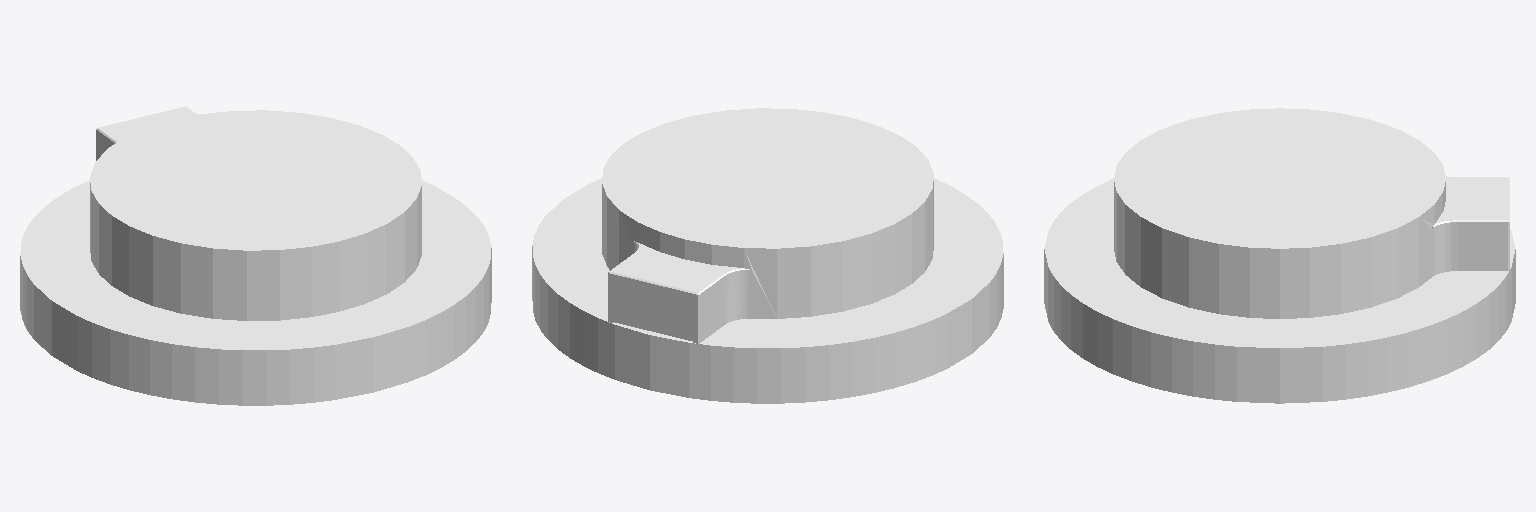
robot.urdf — aubo_i5:
<?xml version="1.0" ?>
<robot name="aubo_i5">
    <link name="base_link">
        
<inertial>
            <origin xyz="-1.4795E-13 0.0015384 0.020951" rpy="0 0 0" />
            <mass value="0.83419" />
            <inertia ixx="0.0014414" ixy="7.8809E-15" ixz="8.5328E-16" iyy="0.0013542" iyz="-1.4364E-05" izz="0.0024659" />
        </inertial>

        <visual>
            <origin xyz="0 0 0" rpy="0 0 0" />
            <geometry>
                <mesh filename="package://aubo_description/meshes/aubo_i5/visual/base_link.DAE" />
            </geometry>
            <material name="">
                <color rgba="1 1 1 1" />
            </material>
        </visual>
        <collision>
            <origin xyz="0 0 0" rpy="0 0 0" />
            <geometry>
                <mesh filename="package://aubo_description/meshes/aubo_i5/collision/base_link.STL" />
            </geometry>
        </collision>
    </link>
    <link name="shoulder_Link">
        
<inertial>
            <origin xyz="3.2508868974735E-07 0.00534955349296065 -0.00883689325611056" rpy="0 0 0" />
            <mass value="1.57658348693929" />
            <inertia ixx="0.0040640448663128" ixy="0" ixz="0" iyy="0.00392863238466817" iyz="-0.000160151642851425" izz="0.0030869857349184" />
        </inertial>

        <visual>
            <origin xyz="0 0 0" rpy="0 0 0" />
            <geometry>
                <mesh filename="package://aubo_description/meshes/aubo_i5/visual/shoulder_Link.DAE" />
            </geometry>
            <material name="">
                <color rgba="1 1 1 1" />
            </material>
        </visual>
        <collision>
            <origin xyz="0 0 0" rpy="0 0 0" />
            <geometry>
                <mesh filename="package://aubo_description/meshes/aubo_i5/collision/shoulder_Link.STL" />
            </geometry>
        </collision>
    </link>
    <joint name="shoulder_joint" type="revolute">
        <origin xyz="0 0 0.122" rpy="0 0 3.1416" />
        <parent link="base_link" />
        <child link="shoulder_Link" />
        <axis xyz="0 0 1" />
        <limit lower="-3.05" upper="3.05" effort="0" velocity="0" />
    </joint>
    <link name="upperArm_Link">
        
<inertial>
            <origin xyz="0.203996646979614 2.01304585036544E-10 0.0127641545395984" rpy="0 0 0" />
            <mass value="4.04175782265494" />
            <inertia ixx="0.00965399211106204" ixy="0" ixz="0" iyy="0.144993869035655" iyz="0" izz="0.142607184038966" />
        </inertial>

        <visual>
            <origin xyz="0 0 0" rpy="0 0 0" />
            <geometry>
                <mesh filename="package://aubo_description/meshes/aubo_i5/visual/upperArm_Link.DAE" />
            </geometry>
            <material name="">
                <color rgba="1 1 1 1" />
            </material>
        </visual>
        <collision>
            <origin xyz="0 0 0" rpy="0 0 0" />
            <geometry>
                <mesh filename="package://aubo_description/meshes/aubo_i5/collision/upperArm_Link.STL" />
            </geometry>
        </collision>
    </link>
    <joint name="upperArm_joint" type="revolute">
        <origin xyz="0 0.1215 0" rpy="-1.5708 -1.5708 0" />
        <parent link="shoulder_Link" />
        <child link="upperArm_Link" />
        <axis xyz="0 0 1" />
        <limit lower="-3.05" upper="3.05" effort="0" velocity="0" />
    </joint>
    <link name="foreArm_Link">
        
<inertial>
            <origin xyz="0.188922115560337 6.78882434739072E-07 0.0981026740461557" rpy="0 0 0" />
            <mass value="2.27145669098343" />
            <inertia ixx="0.00214322284946289" ixy="0" ixz="-0.00073120631553383" iyy="0.0443926090878205" iyz="0" izz="0.0441273797128365" />
        </inertial>

        <visual>
            <origin xyz="0 0 0" rpy="0 0 0" />
            <geometry>
                <mesh filename="package://aubo_description/meshes/aubo_i5/visual/foreArm_Link.DAE" />
            </geometry>
            <material name="">
                <color rgba="1 1 1 1" />
            </material>
        </visual>
        <collision>
            <origin xyz="0 0 0" rpy="0 0 0" />
            <geometry>
                <mesh filename="package://aubo_description/meshes/aubo_i5/collision/foreArm_Link.STL" />
            </geometry>
        </collision>
    </link>
    <joint name="foreArm_joint" type="revolute">
        <origin xyz="0.408 0 0" rpy="-3.1416 -5.1632E-18 -5.459E-16" />
        <parent link="upperArm_Link" />
        <child link="foreArm_Link" />
        <axis xyz="0 0 1" />
        <limit lower="-3.05" upper="3.05" effort="0" velocity="0" />
    </joint>
    <link name="wrist1_Link">
        
<inertial>
            <origin xyz="7.54205137428592E-07 0.0062481254331257 -0.00392367464072373" rpy="0 0 0" />
            <mass value="0.500477539188764" />
            <inertia ixx="0.00071194605962081" ixy="0" ixz="0" iyy="0.00040588242872958" iyz="-2.30808694377512E-05" izz="0.000685574004861334" />
        </inertial>

        <visual>
            <origin xyz="0 0 0" rpy="0 0 0" />
            <geometry>
                <mesh filename="package://aubo_description/meshes/aubo_i5/visual/wrist1_Link.DAE" />
            </geometry>
            <material name="">
                <color rgba="1 1 1 1" />
            </material>
        </visual>
        <collision>
            <origin xyz="0 0 0" rpy="0 0 0" />
            <geometry>
                <mesh filename="package://aubo_description/meshes/aubo_i5/collision/wrist1_Link.STL" />
            </geometry>
        </collision>
    </link>
    <joint name="wrist1_joint" type="revolute">
        <origin xyz="0.376 0 0" rpy="3.1416 -1.8323E-15 1.5708" />
        <parent link="foreArm_Link" />
        <child link="wrist1_Link" />
        <axis xyz="0 0 1" />
        <limit lower="-3.05" upper="3.05" effort="0" velocity="0" />
    </joint>
    <link name="wrist2_Link">
        
<inertial>
            <origin xyz="-7.54207620578635E-07 -0.00624812542617262 -0.00392367464115684" rpy="0 0 0" />
            <mass value="0.500477539245988" />
            <inertia ixx="0.00071194605981829" ixy="0" ixz="0" iyy="0.000405882428755442" iyz="2.30808694515886E-05" izz="0.000685574005112107" />
        </inertial>

        <visual>
            <origin xyz="0 0 0" rpy="0 0 0" />
            <geometry>
                <mesh filename="package://aubo_description/meshes/aubo_i5/visual/wrist2_Link.DAE" />
            </geometry>
            <material name="">
                <color rgba="1 1 1 1" />
            </material>
        </visual>
        <collision>
            <origin xyz="0 0 0" rpy="0 0 0" />
            <geometry>
                <mesh filename="package://aubo_description/meshes/aubo_i5/collision/wrist2_Link.STL" />
            </geometry>
        </collision>
    </link>
    <joint name="wrist2_joint" type="revolute">
        <origin xyz="0 0.1025 0" rpy="-1.5708 -1.8709E-15 -1.6653E-16" />
        <parent link="wrist1_Link" />
        <child link="wrist2_Link" />
        <axis xyz="0 0 1" />
        <limit lower="-3.05" upper="3.05" effort="0" velocity="0" />
    </joint>
    <link name="wrist3_Link">
        
<inertial>
            <origin xyz="3.92048778449938E-10 0.000175788057281467 -0.0213294490706684" rpy="0 0 0" />
            <mass value="0.158309554874285" />
            <inertia ixx="7.31376196034769E-05" ixy="0" ixz="0" iyy="7.19528188876563E-05" iyz="0" izz="0.000108772439051422" />
        </inertial>

        <visual>
            <origin xyz="0 0 0" rpy="0 0 0" />
            <geometry>
                <mesh filename="package://aubo_description/meshes/aubo_i5/visual/wrist3_Link.DAE" />
            </geometry>
            <material name="">
                <color rgba="1 1 1 1" />
            </material>
        </visual>
        <collision>
            <origin xyz="0 0 0" rpy="0 0 0" />
            <geometry>
                <mesh filename="package://aubo_description/meshes/aubo_i5/collision/wrist3_Link.STL" />
            </geometry>
        </collision>
    </link>
    <joint name="wrist3_joint" type="revolute">
        <origin xyz="0 -0.094 0" rpy="1.5708 0 1.7907E-15" />
        <parent link="wrist2_Link" />
        <child link="wrist3_Link" />
        <axis xyz="0 0 1" />
        <limit lower="-3.05" upper="3.05" effort="0" velocity="0" />
    </joint>
    <link name="ee_link">
        <collision>
            <geometry>
                <box size="0.01 0.01 0.01" />
            </geometry>
            <origin rpy="0 0 0" xyz="-0.01 0 0" />
        </collision>
        
<inertial>
            <mass value="0.1" />
            <inertia ixx="0.03" iyy="0.03" izz="0.03" ixy="0.0" ixz="0.0" iyz="0.0" />
        </inertial>

    </link>
    <!-- Frame coincident with all-zeros TCP on UR controller -->
    <link name="tool0" />
    <joint name="ee_fixed_joint" type="fixed">
        <parent link="wrist3_Link" />
        <child link="ee_link" />
        <origin xyz="0.0 0.0823 0.0" rpy="0.0 0.0 1.57079632679" />
    </joint>
    <joint name="wrist3_Link-tool0_fixed_joint" type="fixed">
        <origin xyz="0 0.0823 0" rpy="-1.57079632679 0 0" />
        <parent link="wrist3_Link" />
        <child link="tool0" />
    </joint>
    <link name="world" />
    <joint name="world_joint" type="fixed">
        <parent link="world" />
        <child link="base_link" />
        <origin xyz="0.0 0.0 0.0" rpy="0.0 0.0 0.0" />
    </joint>
</robot>

--- Facts derived from the render (not from the file) ---
3 views of the same robot in one strip: view 1: azimuth 30°, elevation 25°; view 2: azimuth 150°, elevation 25°; view 3: azimuth 270°, elevation 25° (orthographic).
Model aubo_i5 with 10 links and 9 joints (6 revolute, 3 fixed), rooted at world, posed every joint at zero.
Links seen in each view (by area): view 1: base_link; view 2: base_link; view 3: base_link.
Boxes of the visible links, box(x1,y1,x2,y2) form: base_link: box(20, 106, 491, 405); base_link: box(532, 108, 1003, 403); base_link: box(1044, 108, 1515, 403).
Size in the robot's own frame: 0.17 by 0.17 by 0.05 metres.
1 mesh visuals loaded from 7 distinct referenced files (1 Collada DAE); not drawn: 6 (reference not matched to a file when rendering).